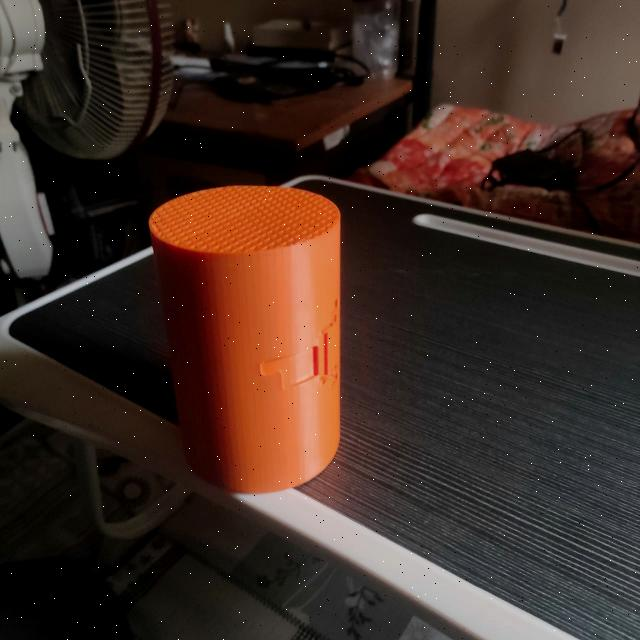Cylinder: (147, 183, 343, 494)
